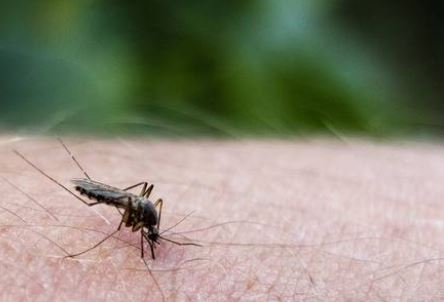dengue_mosquito: (43, 137, 203, 259)
